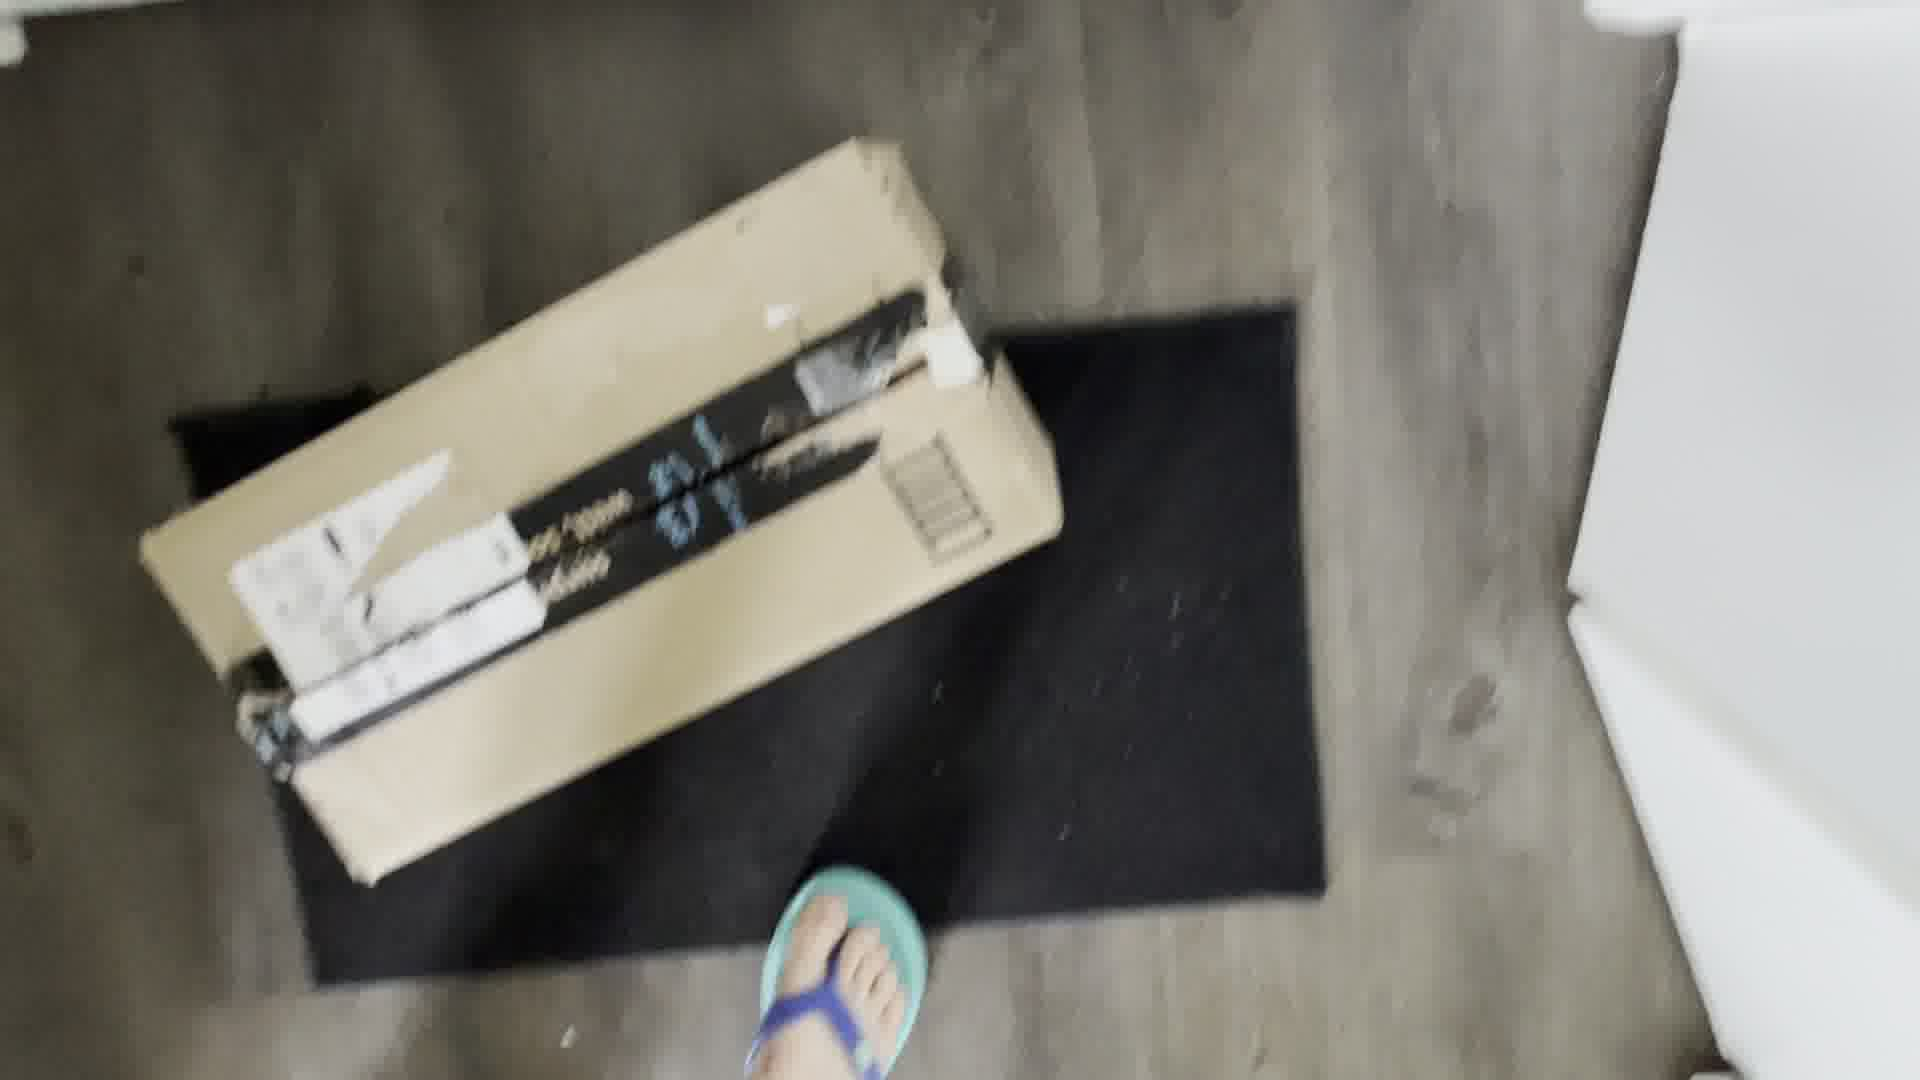box: (125, 140, 1083, 891)
